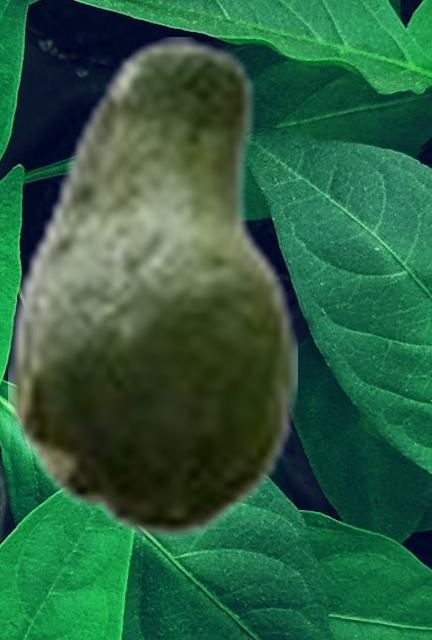sayote: (8, 37, 296, 540)
